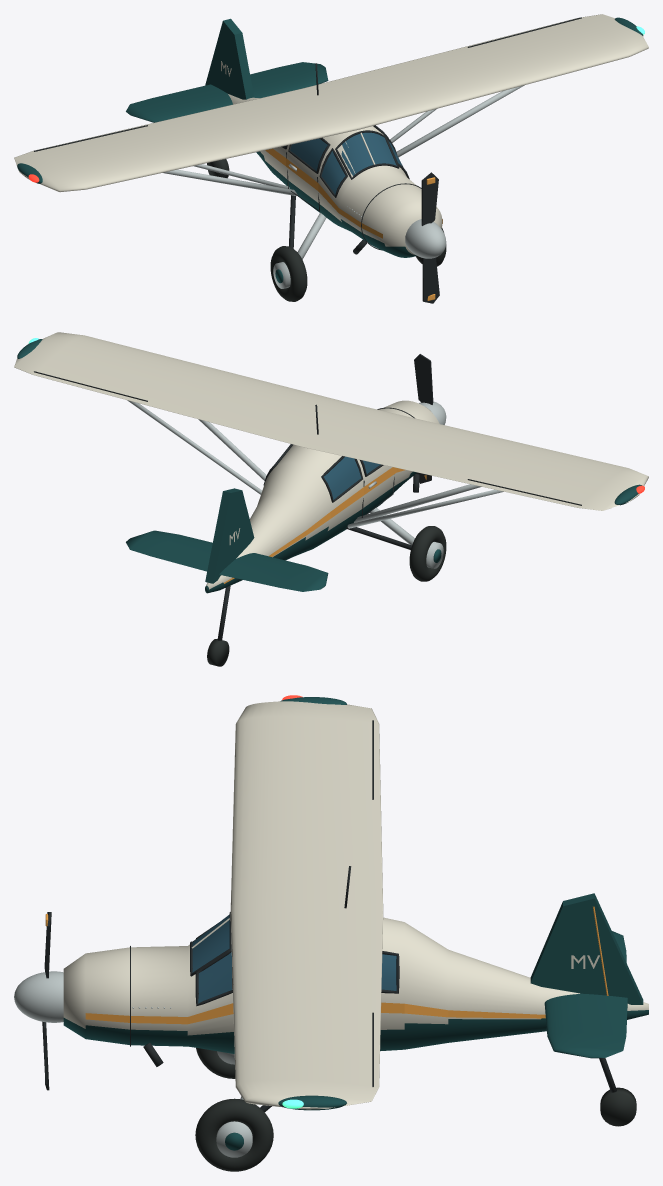
The model's file is heron_mv4.glb.
3 views of the same model, one above another, from view 1: azimuth 30°, elevation 25°; view 2: azimuth 150°, elevation 25°; view 3: azimuth 270°, elevation 25° (orthographic). The views are drawn at different scales.
Parts seen in each view (by area): view 1: High wing | cambered airfoil.001, Sculpted monocoque fuselage.001, Horizontal tail.001, Swept vertical stabilizer.001, Curved front windscreen, Tundra tyre.002, Spinner.001, Lift strut.003, Lift strut.002, Swept ochre fuselage stripe.002, Propeller blade.003, Propeller blade.002 (+4 smaller); view 2: High wing | cambered airfoil.001, Sculpted monocoque fuselage.001, Horizontal tail.001, Swept vertical stabilizer.001, Tundra tyre.002, Swept ochre fuselage stripe.002, Flush cabin glass.008, Lift strut.002, Rear lift strut.003, Rear lift strut.002, Propeller blade.003, Lift strut.003 (+1 smaller); view 3: High wing | cambered airfoil.001, Sculpted monocoque fuselage.001, Swept vertical stabilizer.001, Horizontal tail.001, Tundra tyre.003, Swept ochre fuselage stripe.003, Spinner.001, Curved front windscreen, Tailwheel.001, Flush cabin glass.009, Wheel hub.003, Tundra tyre.002 (+1 smaller).
Boxes of the visible parts, <box> form: High wing | cambered airfoil.001: <box>14,14,648,192</box>; Sculpted monocoque fuselage.001: <box>228,94,442,257</box>; Horizontal tail.001: <box>126,62,328,122</box>; Swept vertical stabilizer.001: <box>205,18,254,99</box>; Curved front windscreen: <box>341,132,396,175</box>; Tundra tyre.002: <box>270,246,307,301</box>; Spinner.001: <box>405,219,446,258</box>; Lift strut.003: <box>396,85,524,157</box>; Lift strut.002: <box>163,169,297,196</box>; Swept ochre fuselage stripe.002: <box>265,148,382,238</box>; Propeller blade.003: <box>421,172,438,225</box>; Propeller blade.002: <box>422,257,439,303</box>; High wing | cambered airfoil.001: <box>14,332,648,510</box>; Sculpted monocoque fuselage.001: <box>205,400,439,593</box>; Horizontal tail.001: <box>126,530,328,591</box>; Swept vertical stabilizer.001: <box>205,488,254,583</box>; Tundra tyre.002: <box>409,526,446,581</box>; Swept ochre fuselage stripe.002: <box>224,467,404,583</box>; Flush cabin glass.008: <box>324,456,361,499</box>; Lift strut.002: <box>354,484,481,522</box>; Rear lift strut.003: <box>127,400,262,494</box>; Rear lift strut.002: <box>347,489,503,528</box>; Propeller blade.003: <box>414,354,433,404</box>; Lift strut.003: <box>198,419,266,480</box>; High wing | cambered airfoil.001: <box>230,701,383,1109</box>; Sculpted monocoque fuselage.001: <box>63,917,648,1053</box>; Swept vertical stabilizer.001: <box>530,893,643,1004</box>; Horizontal tail.001: <box>544,931,627,1058</box>; Tundra tyre.003: <box>195,1098,273,1171</box>; Swept ochre fuselage stripe.003: <box>85,1002,545,1024</box>; Spinner.001: <box>14,971,63,1022</box>; Curved front windscreen: <box>192,914,229,972</box>; Tailwheel.001: <box>600,1087,636,1126</box>; Flush cabin glass.009: <box>198,952,232,1003</box>; Wheel hub.003: <box>216,1121,252,1157</box>; Tundra tyre.002: <box>196,1048,235,1078</box>.
Bounding box in the file's own units: 10.14 × 2.98 × 6.65.
